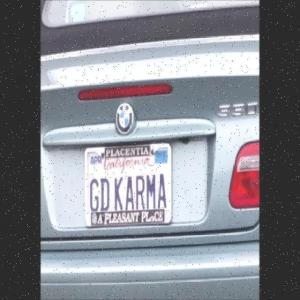Plate: (85, 143, 171, 225)
